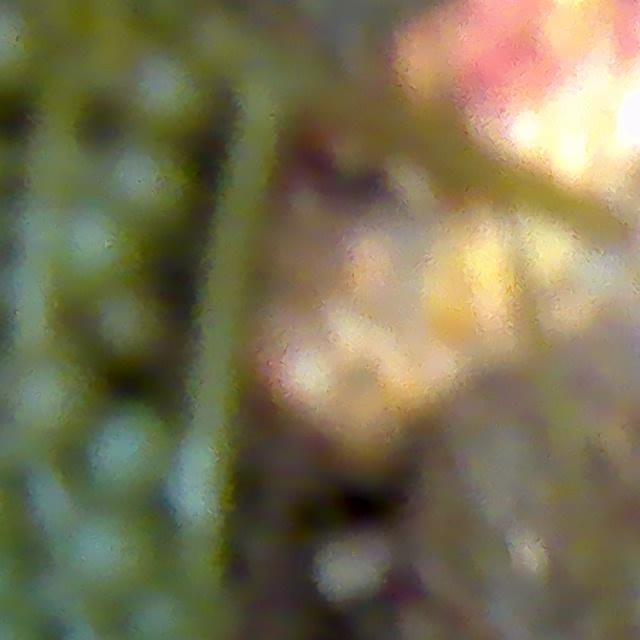SeaGrape: (70, 507, 165, 609), (86, 404, 172, 507), (98, 145, 192, 235), (52, 209, 138, 300), (13, 364, 102, 451), (126, 51, 212, 140), (91, 285, 169, 364), (127, 586, 198, 640)
